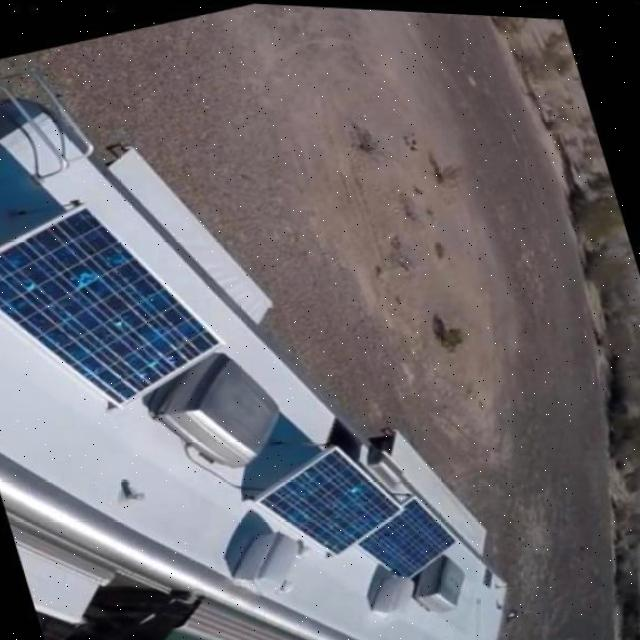Normal Solar Panel: (0, 175, 230, 440), (240, 426, 411, 572), (346, 482, 460, 584)
